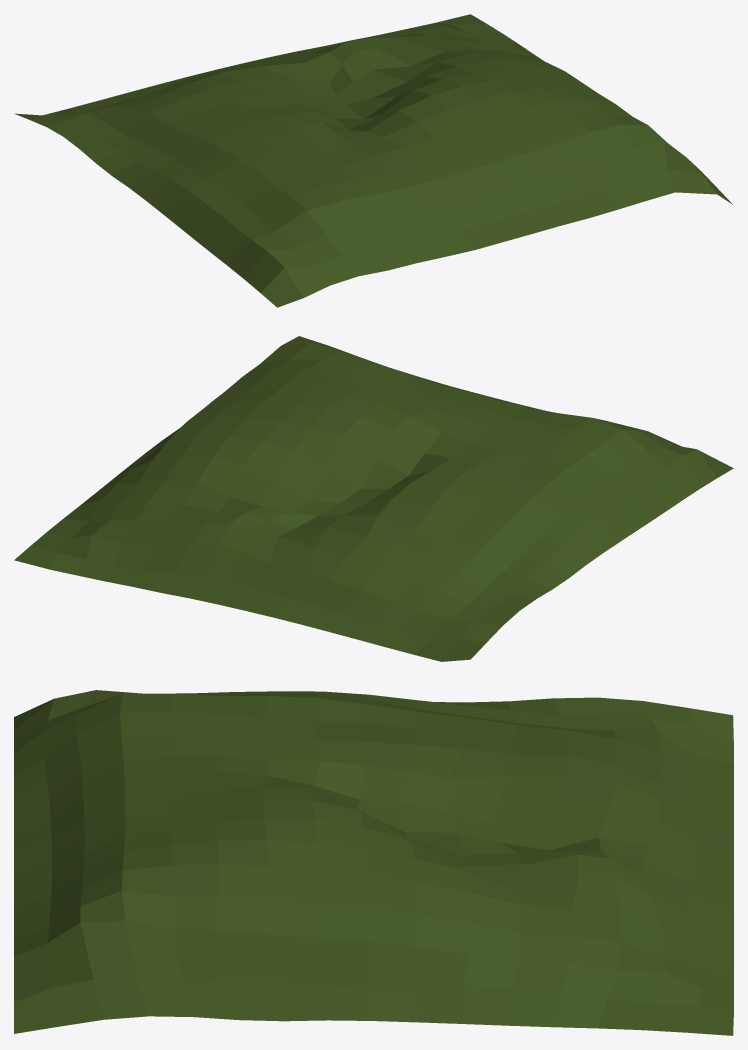
The model's file is Mountain_2.fbx.
The picture shows the model from 3 angles, top to bottom: view 1: azimuth 30°, elevation 25°; view 2: azimuth 150°, elevation 25°; view 3: azimuth 270°, elevation 25°; orthographic projection. The views are drawn at different scales.
Visible parts, largest first — view 1: Mountain_2; view 2: Mountain_2; view 3: Mountain_2.
Part boxes in pixels (x1,y1,x2,y2): Mountain_2: [15, 14, 732, 307]; Mountain_2: [14, 336, 733, 661]; Mountain_2: [14, 690, 733, 1035].
Size of the model in its own units: 2500 by 422 by 2500.
